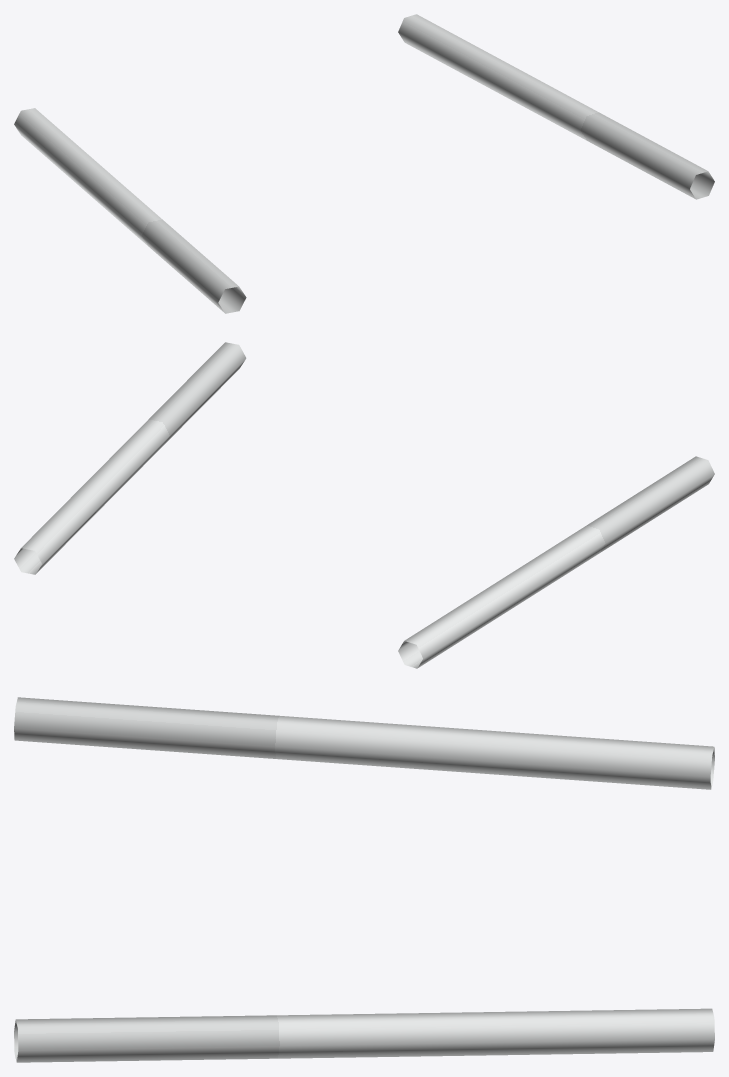
The model's file is nycsignalarm_regular6_c4.obj.
3 renders of one model, top to bottom at view 1: azimuth 30°, elevation 25°; view 2: azimuth 150°, elevation 25°; view 3: azimuth 270°, elevation 25°, orthographic. The views are drawn at different scales.
Visible parts, largest first — view 1: nycsignalarm_regular6_c4; view 2: nycsignalarm_regular6_c4; view 3: nycsignalarm_regular6_c4.
Part boxes in pixels (<box>): nycsignalarm_regular6_c4: <box>14,14,714,313</box>; nycsignalarm_regular6_c4: <box>14,342,714,668</box>; nycsignalarm_regular6_c4: <box>14,697,714,1062</box>.
Bounding box in the file's own units: 1.16 × 0.0847 × 1.01.
